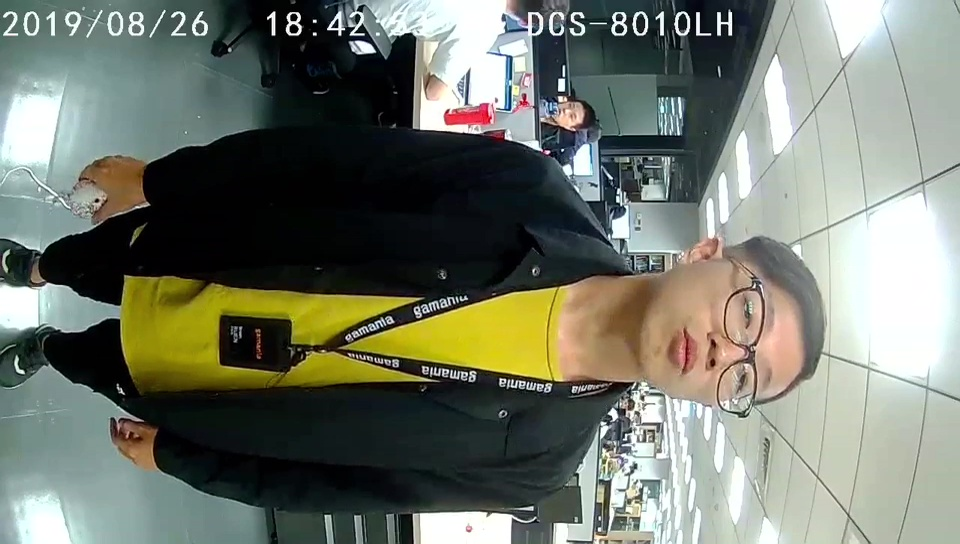pig: (66, 178, 109, 220)
